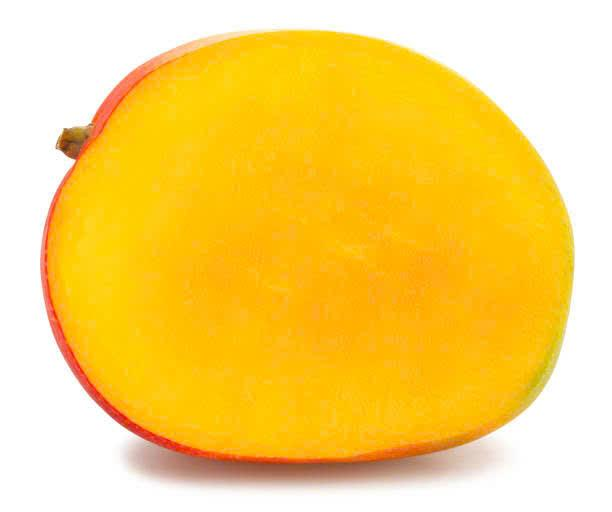mango: (64, 15, 591, 491)
